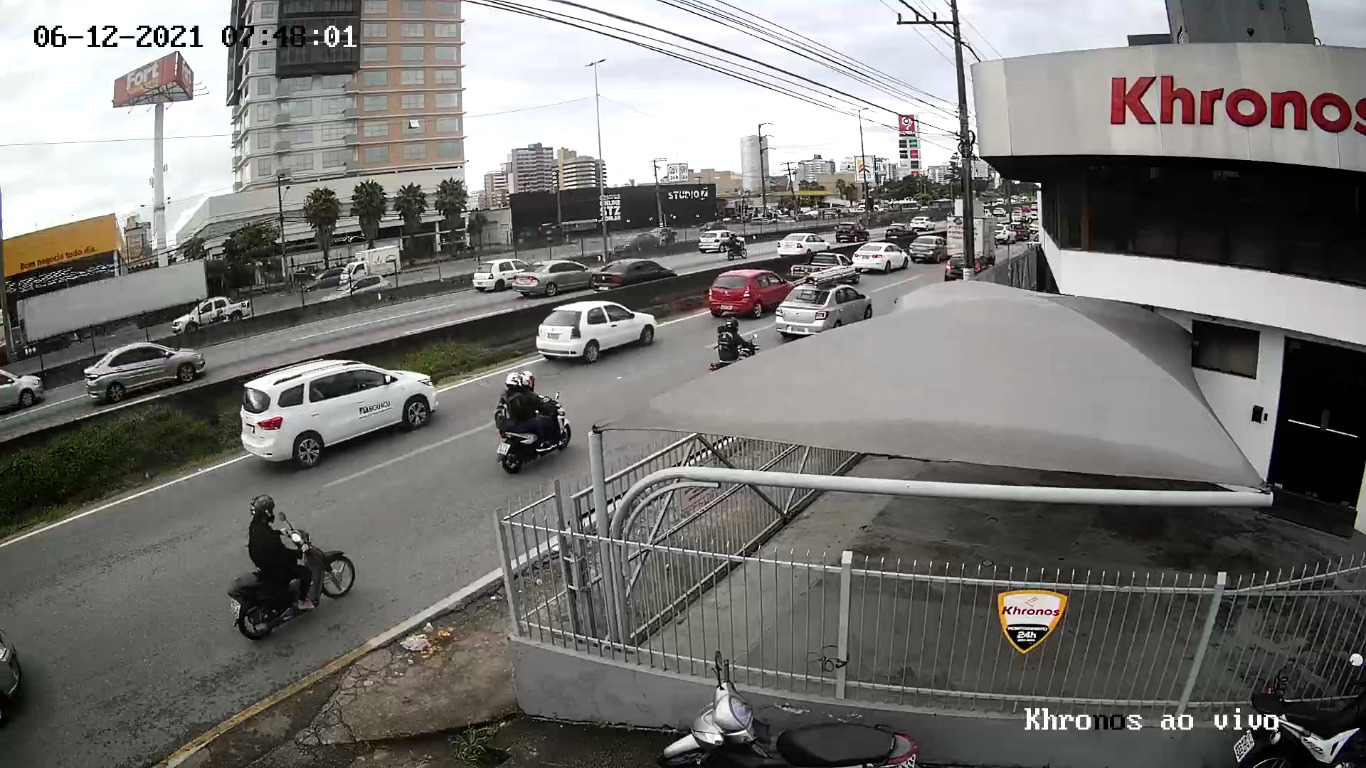car: (240, 358, 440, 469), (533, 298, 658, 364)
motorcycle: (227, 491, 356, 641), (491, 370, 574, 474)
